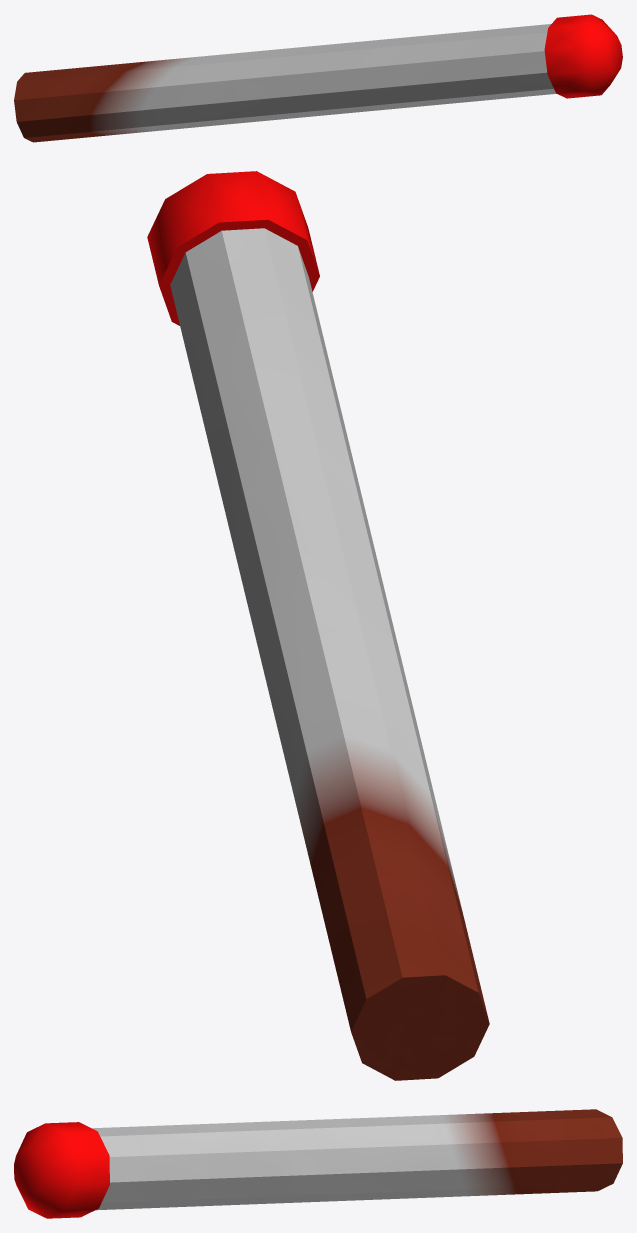
Rendered from Cigarrillo.fbx.
The picture shows the model from 3 angles, top to bottom: view 1: azimuth 30°, elevation 25°; view 2: azimuth 150°, elevation 25°; view 3: azimuth 270°, elevation 25°; orthographic projection. The views are drawn at different scales.
Parts seen in each view (by area): view 1: Cigarro; view 2: Cigarro; view 3: Cigarro.
Part boxes in pixels (bbox=[...]): Cigarro: bbox=[14, 14, 622, 142]; Cigarro: bbox=[147, 171, 489, 1080]; Cigarro: bbox=[14, 1109, 622, 1218].
Size of the model in its own units: 7.87 by 4.08 by 9.27.
